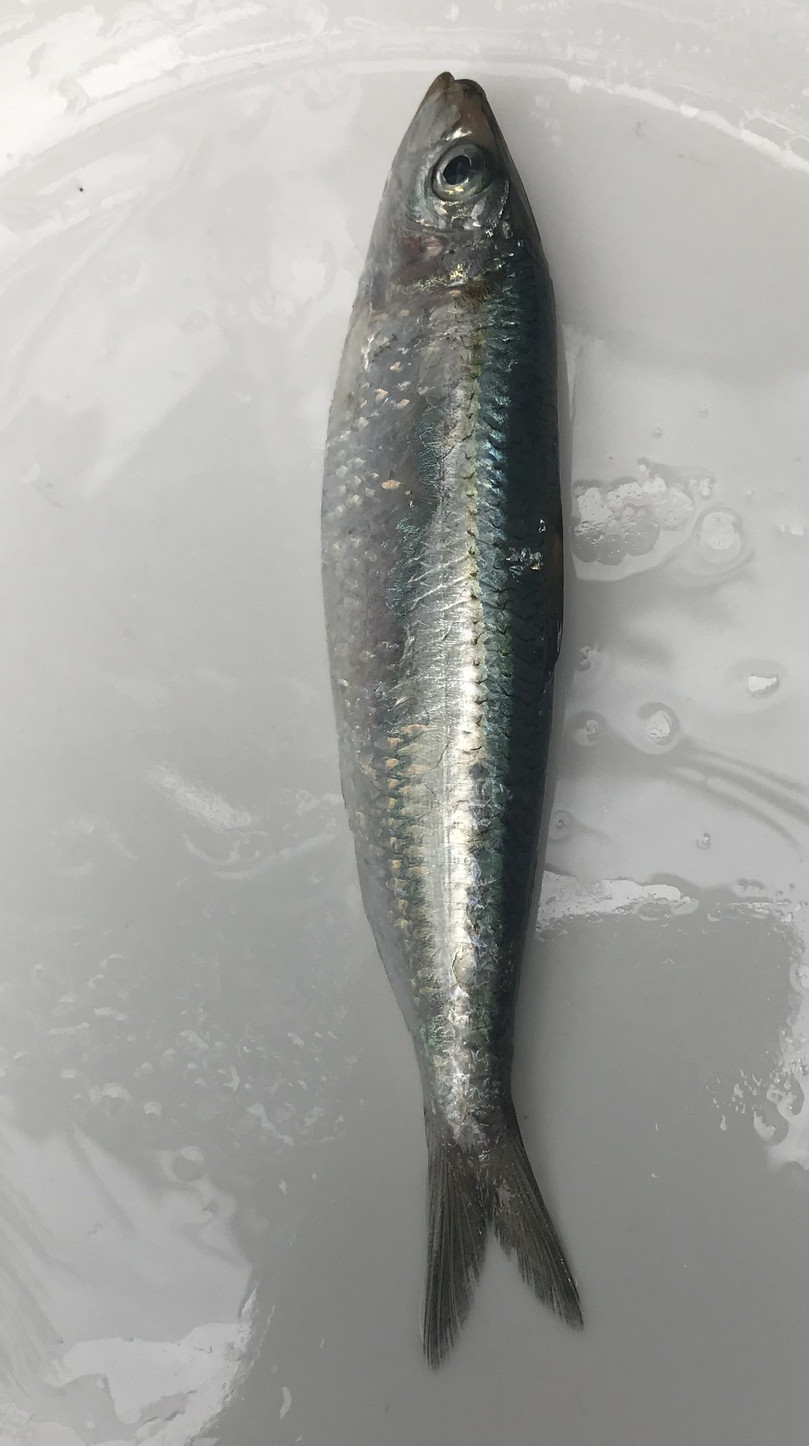tamban_not_dried: (140, 72, 809, 1446)
